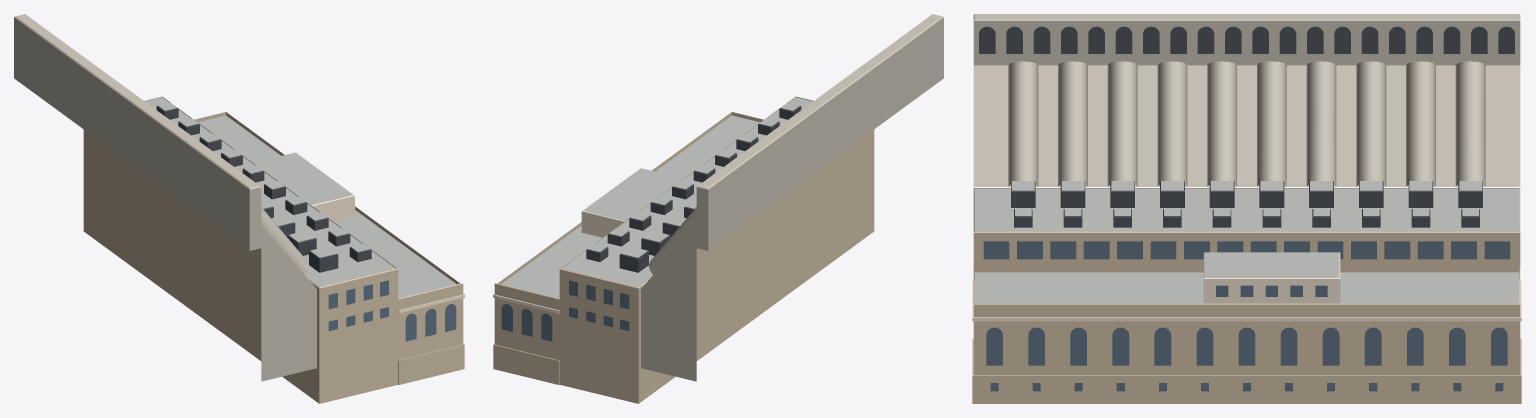
File: niagara-sir-adam-beck-1.glb
The picture shows the model from 3 angles, left to right: view 1: azimuth 30°, elevation 25°; view 2: azimuth 150°, elevation 25°; view 3: azimuth 270°, elevation 25°; orthographic projection. The views are drawn at different scales.
Visible parts, largest first — view 1: Sir Adam Beck I Generating Station; view 2: Sir Adam Beck I Generating Station; view 3: Sir Adam Beck I Generating Station.
Part boxes in pixels (x1,y1,x2,y2): Sir Adam Beck I Generating Station: (14, 14, 464, 403); Sir Adam Beck I Generating Station: (493, 14, 943, 403); Sir Adam Beck I Generating Station: (972, 14, 1521, 403).
Size of the model in its own units: 92.45 by 95.6 by 177.
